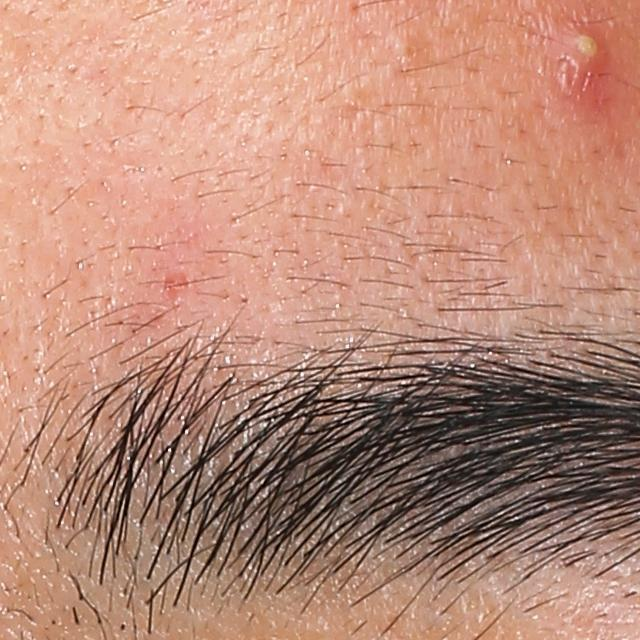comedo: (377, 29, 428, 85)
pustule: (534, 10, 627, 115)
